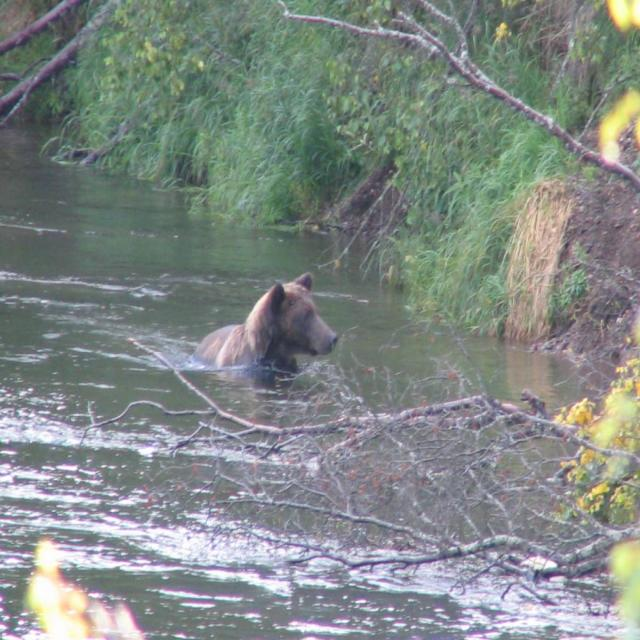bear face: (202, 273, 340, 368)
